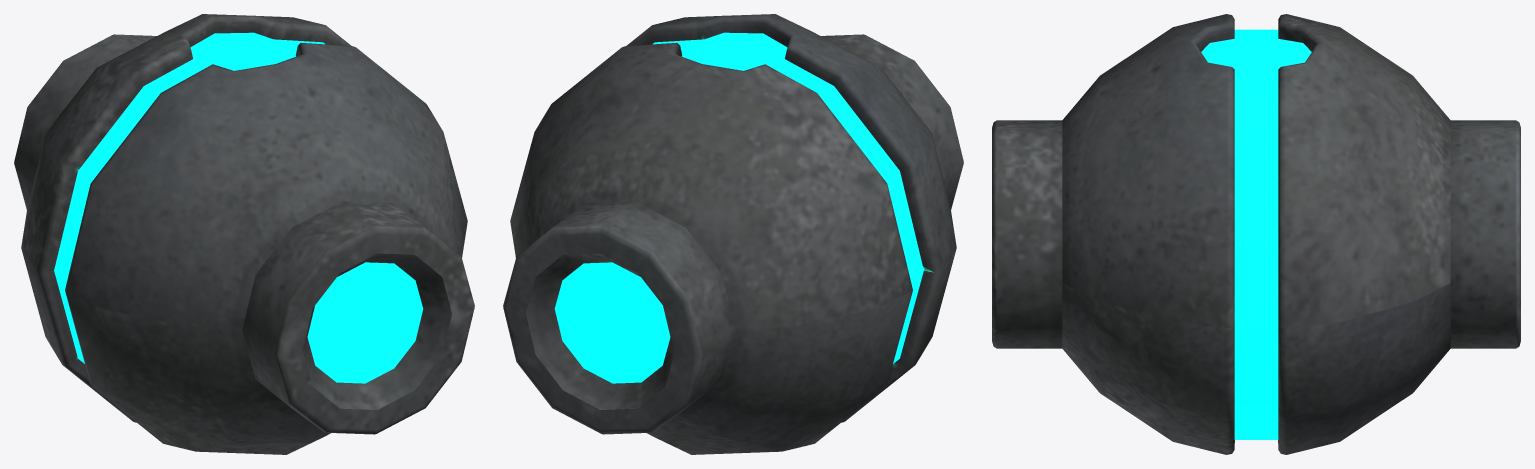
File: LaserTowerHead.fbx
3 views of the same model, side by side, from view 1: azimuth 30°, elevation 25°; view 2: azimuth 150°, elevation 25°; view 3: azimuth 270°, elevation 25° (orthographic).
Visible parts, largest first — view 1: LASERTOWER_Ball; view 2: LASERTOWER_Ball; view 3: LASERTOWER_Ball.
Part boxes in pixels (x1,y1,x2,y2): LASERTOWER_Ball: (14,14,474,454); LASERTOWER_Ball: (503,14,963,454); LASERTOWER_Ball: (992,14,1520,454).
Bounding box in the file's own units: 4.57 × 4.48 × 5.46.
Materials: 1 (1 with a texture image).
